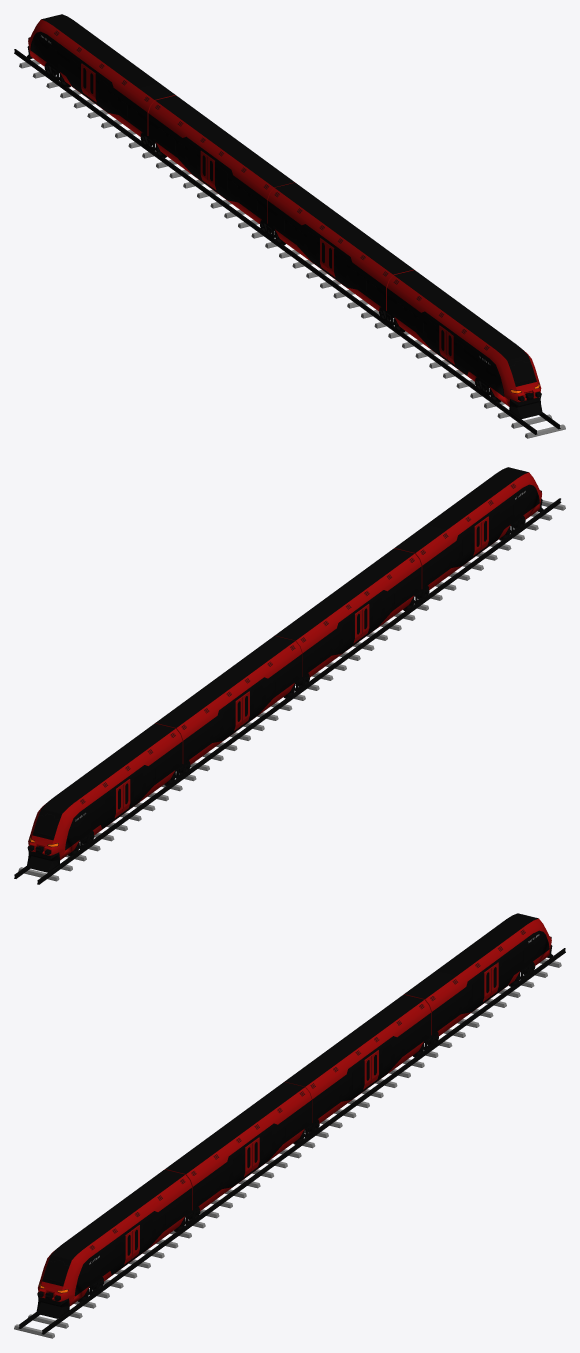
File: McFace.FBX
3 renders of one model, top to bottom at view 1: azimuth 30°, elevation 25°; view 2: azimuth 150°, elevation 25°; view 3: azimuth 330°, elevation 25°, orthographic.
Parts seen in each view (by area): view 1: Box009, Box007, Box006, Box001, Line006; view 2: Box001, Box006, Box007, Box009, Line006; view 3: Box009, Box007, Box006, Box001, Line006.
Boxes of the visible parts, x1=… form: Box009: x1=387, y1=270, x2=542, y2=418; Box007: x1=267, y1=182, x2=414, y2=311; Box006: x1=148, y1=95, x2=294, y2=223; Box001: x1=26, y1=14, x2=175, y2=136; Line006: x1=14, y1=49, x2=560, y2=434; Box001: x1=26, y1=723, x2=182, y2=872; Box006: x1=155, y1=636, x2=302, y2=764; Box007: x1=274, y1=548, x2=421, y2=677; Box009: x1=394, y1=467, x2=543, y2=590; Line006: x1=14, y1=498, x2=561, y2=884; Box009: x1=36, y1=1169, x2=192, y2=1318; Box007: x1=165, y1=1082, x2=311, y2=1210; Box006: x1=284, y1=994, x2=431, y2=1123; Box001: x1=404, y1=913, x2=553, y2=1035; Line006: x1=18, y1=948, x2=565, y2=1334.
Bounding box in the file's own units: 25.56 × 36.63 × 600.
